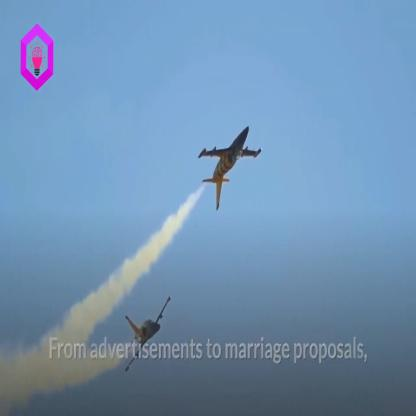plane: (198, 118, 263, 211), (127, 301, 178, 339)
